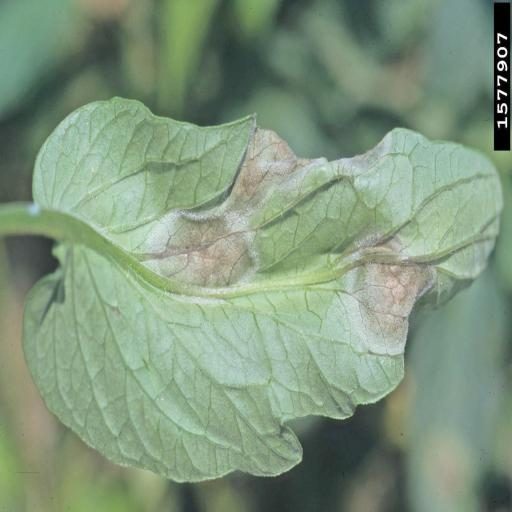Late Blight: (18, 91, 508, 489)
